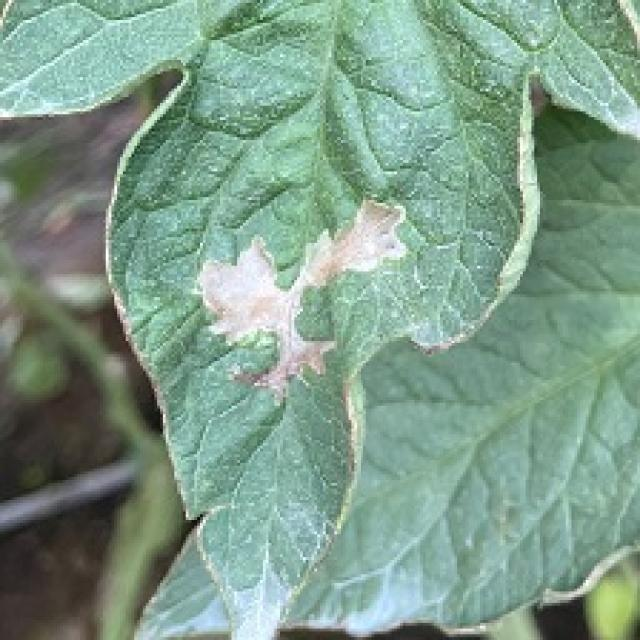Tuta absoluta: (184, 154, 452, 406)
